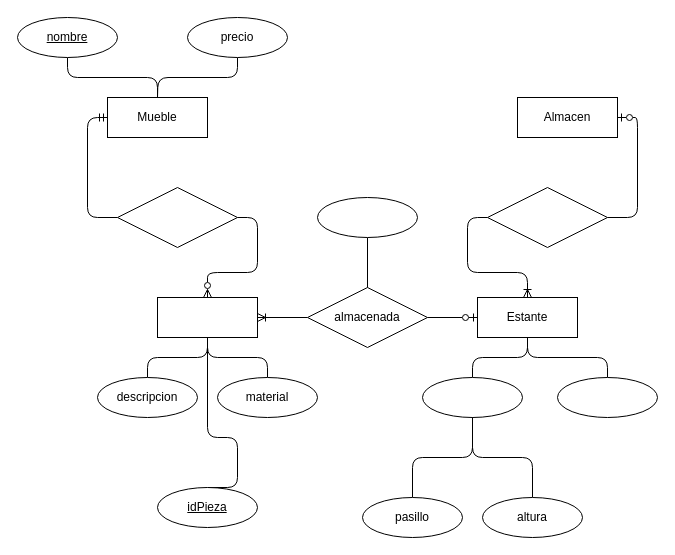
The diagram is 675 pixels wide and 555 high, and some of its shapes have lost their labels. The shapes that lost their labels are listed below. From the top down, each one's box as (x1, y1, x2, y2) in pixels, then its label:
(116, 186, 238, 248): compuesto
(316, 196, 418, 238): unidades
(486, 186, 608, 248): ubicado
(156, 296, 258, 338): Pieza
(422, 376, 522, 418): coordenadas
(556, 376, 658, 418): fechaDeIngreso
